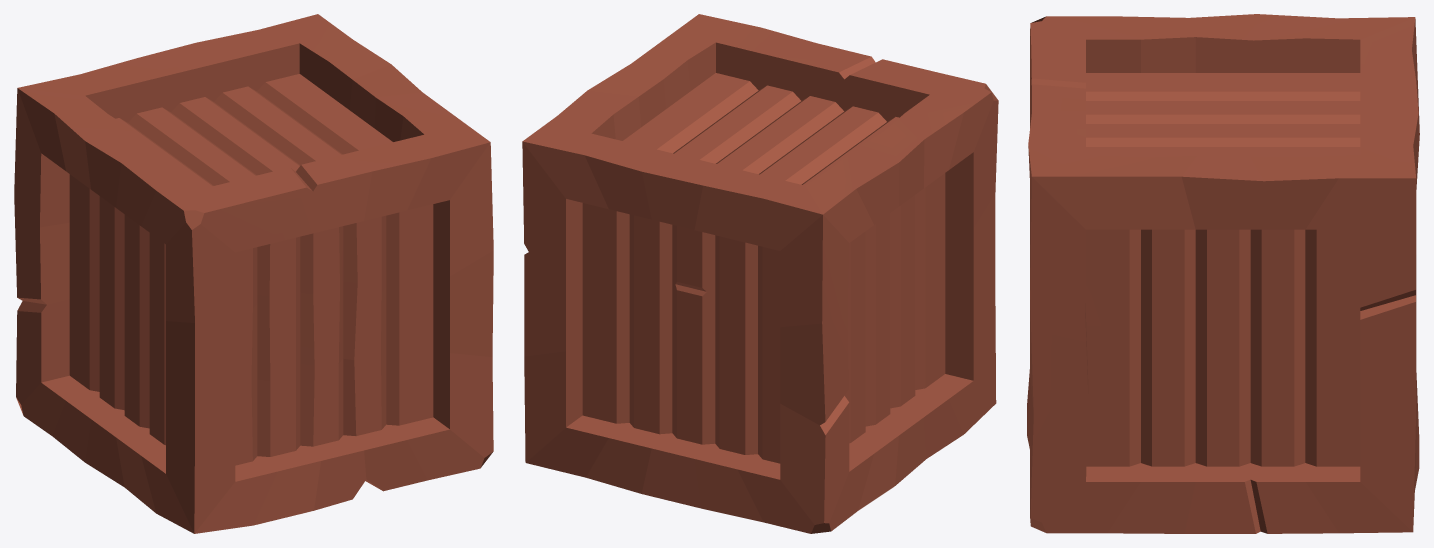
File: crate.glb
3 views of the same model, side by side, from view 1: azimuth 30°, elevation 25°; view 2: azimuth 150°, elevation 25°; view 3: azimuth 270°, elevation 25° (orthographic). The views are drawn at different scales.
Parts seen in each view (by area): view 1: crate; view 2: crate; view 3: crate.
Boxes of the visible parts, box(x1,y1,x2,y2) form: crate: box(14, 14, 493, 533); crate: box(522, 14, 998, 533); crate: box(1027, 14, 1419, 533).
Bounding box in the file's own units: 1 × 1 × 1.
Materials: 1 (1 with a texture image).
